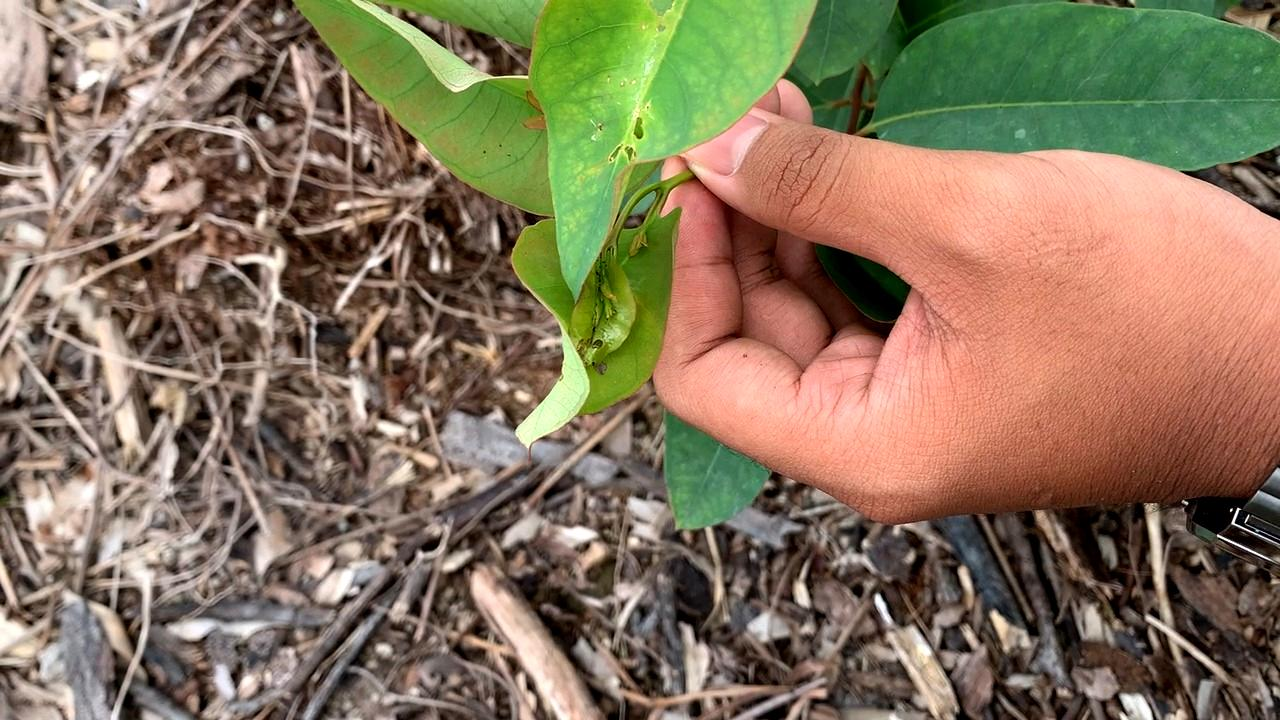Leaf Roller - Leaf: (570, 255, 633, 380)
